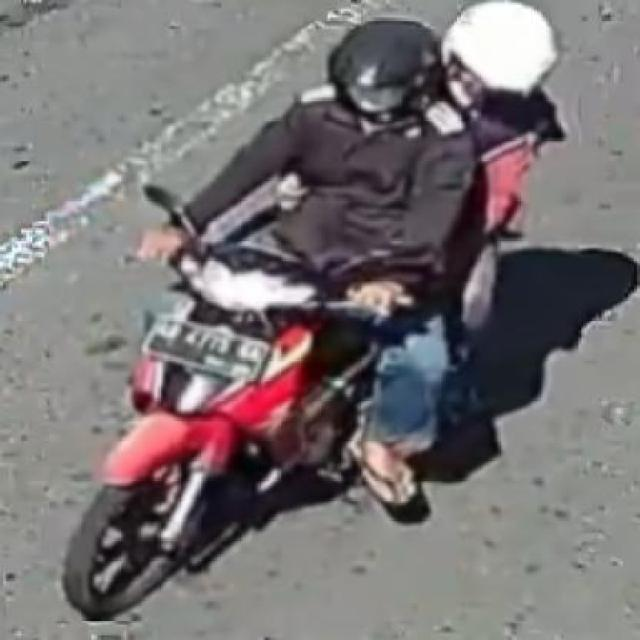helmet: (446, 0, 570, 119), (311, 22, 437, 132)
motorcycle: (86, 2, 562, 606)
